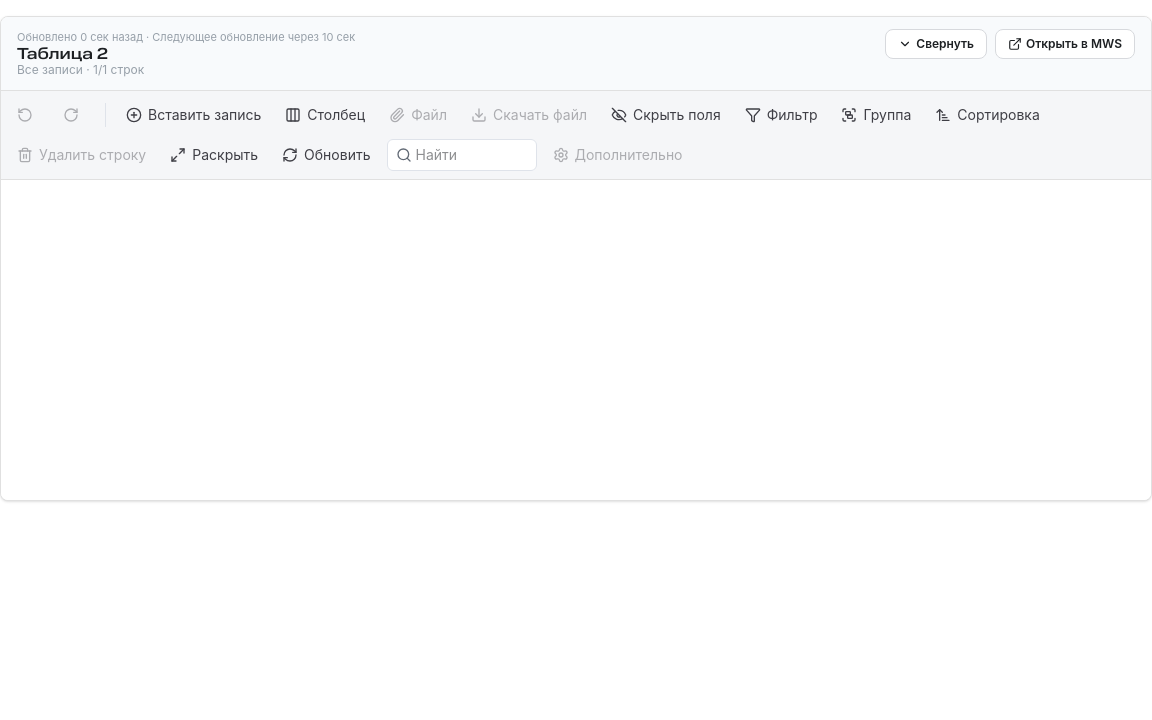
MwsTableEmbedComponent › opens create column modal from the plus area in the header
This screenshot has width=1152, height=720.
Press the mouse on the drawing with test id "mws_canvas_grid": (576, 340) [1,180,1151,500]
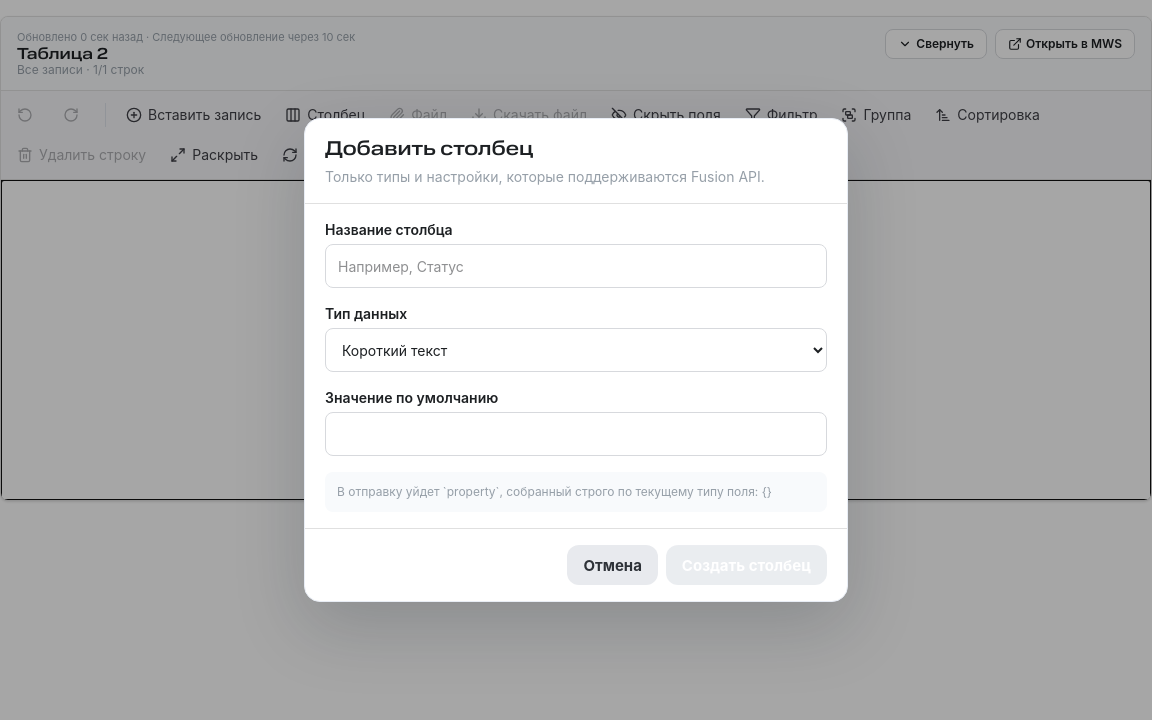
Result: the dialog "Добавить столбец" is shown at [304,118,848,602]
